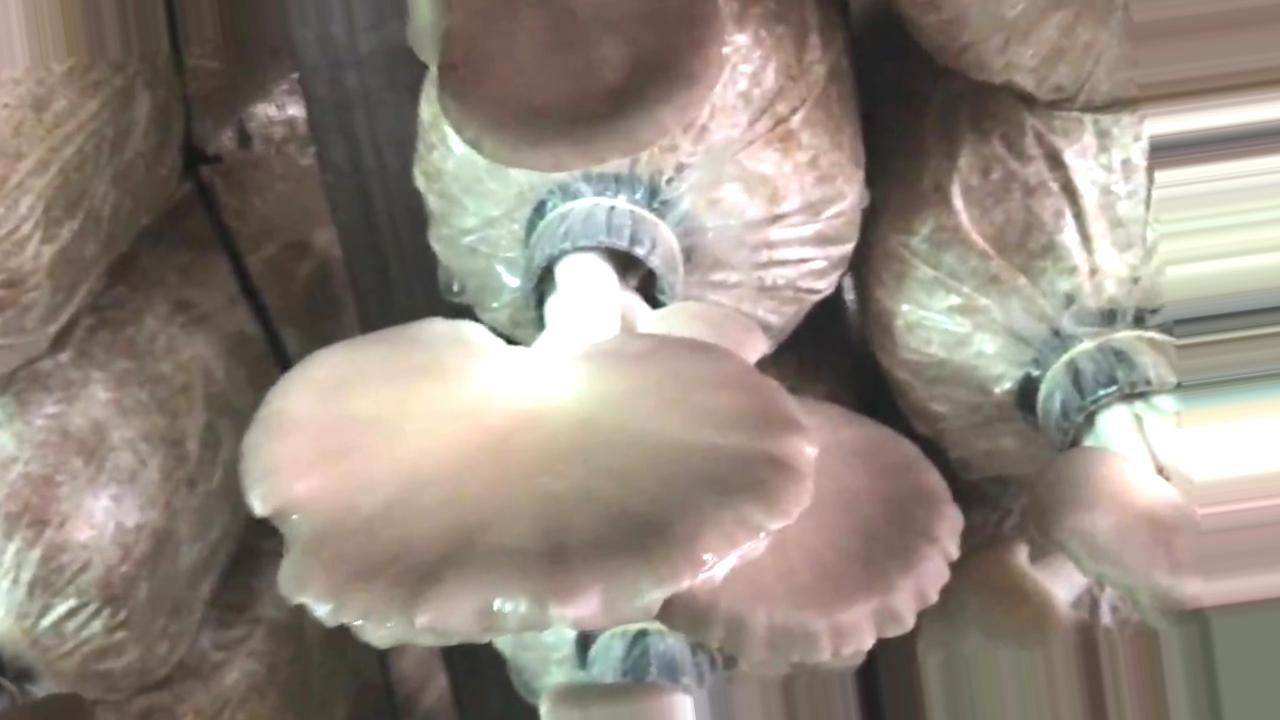nam: (235, 178, 818, 652), (681, 398, 973, 666), (963, 324, 1188, 655), (439, 9, 728, 178)
